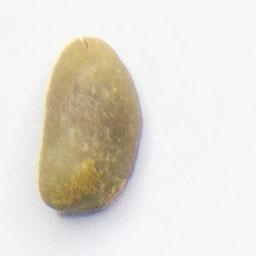longberry: (35, 32, 147, 219)
